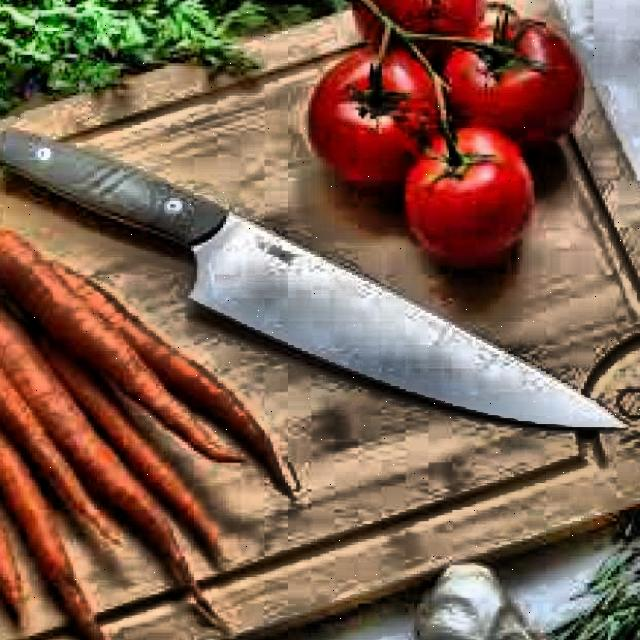knife: (0, 115, 640, 448)
